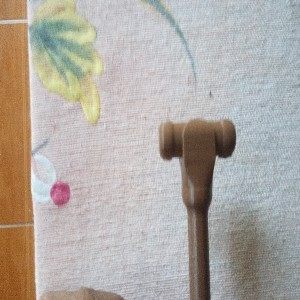palu: (158, 117, 236, 300)
